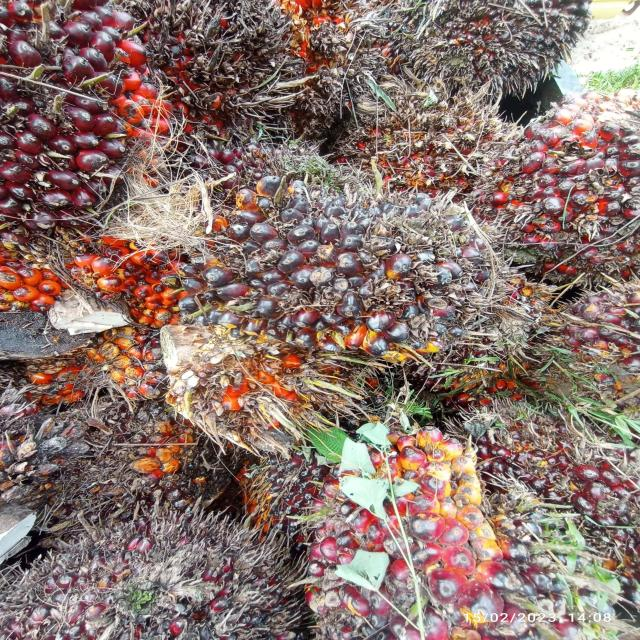fraksi 00: (184, 180, 540, 390)
fraksi 1: (3, 456, 285, 640), (0, 0, 161, 235), (478, 400, 640, 610)
fraksi 3: (289, 414, 597, 640), (500, 86, 640, 274)
fraksi 4: (0, 219, 249, 398), (149, 0, 317, 124), (390, 0, 594, 101), (343, 76, 494, 199)
